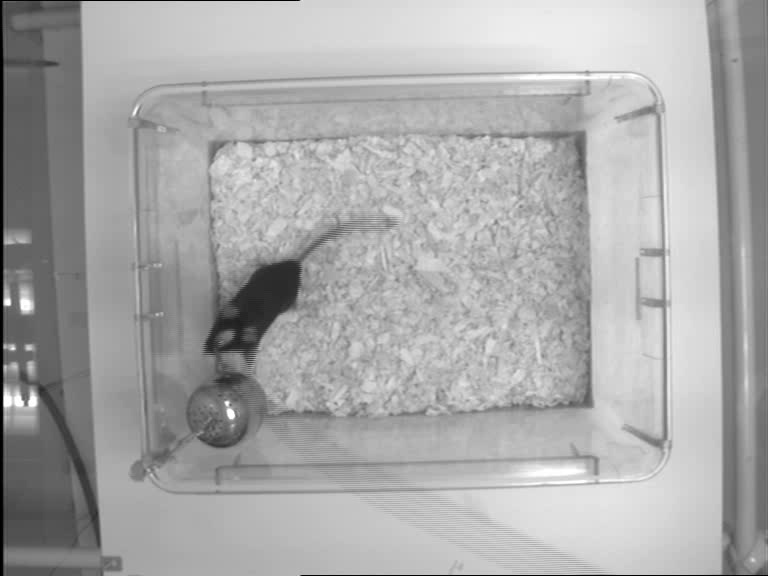mice: (201, 213, 395, 362)
